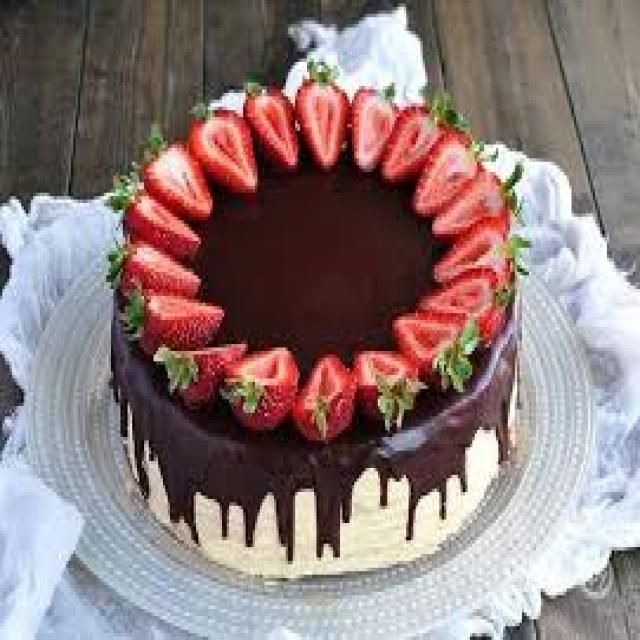Wet Waste: (72, 64, 553, 575)
